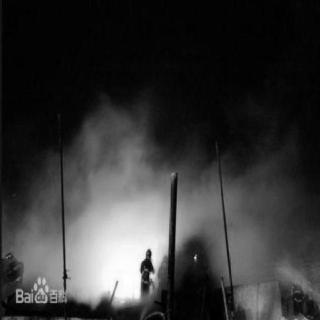Fire: (17, 122, 276, 290)
